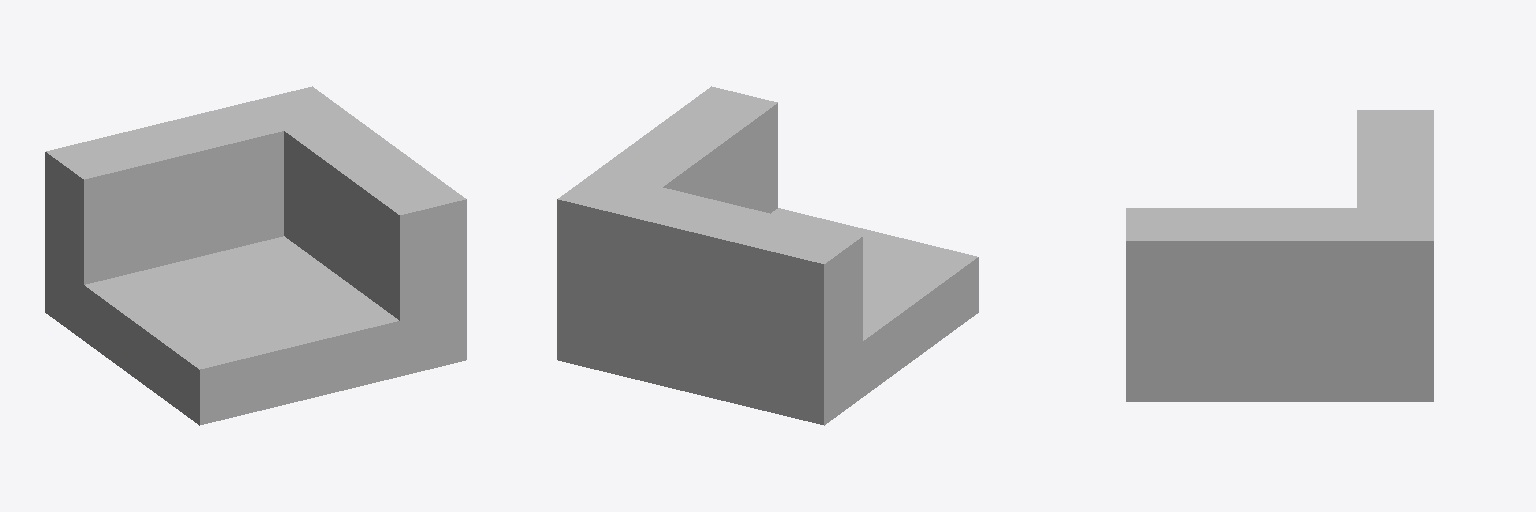
The model's file is tile219.obj.
3 views of the same model, side by side, from view 1: azimuth 30°, elevation 25°; view 2: azimuth 150°, elevation 25°; view 3: azimuth 270°, elevation 25° (orthographic).
Visible parts, largest first — view 1: tile219; view 2: tile219; view 3: tile219.
Part boxes in pixels (bbox=[...]): tile219: bbox=[45, 86, 466, 425]; tile219: bbox=[557, 86, 978, 425]; tile219: bbox=[1126, 110, 1433, 401].
Size of the model in its own units: 1 by 0.5767 by 1.